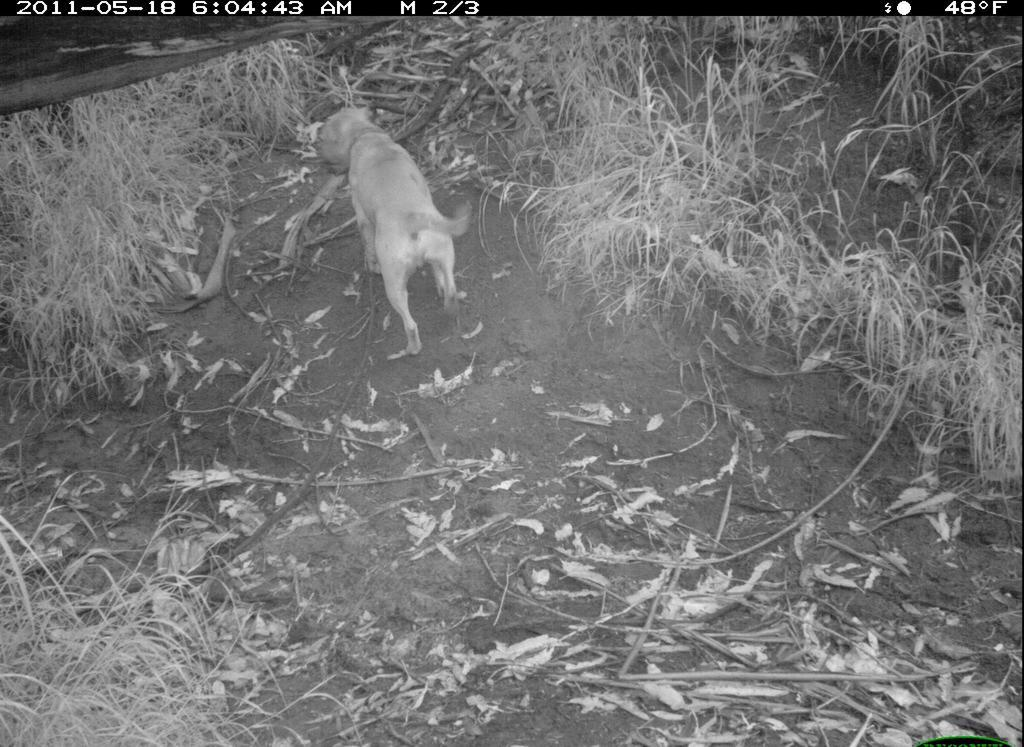dog: (310, 93, 479, 361)
